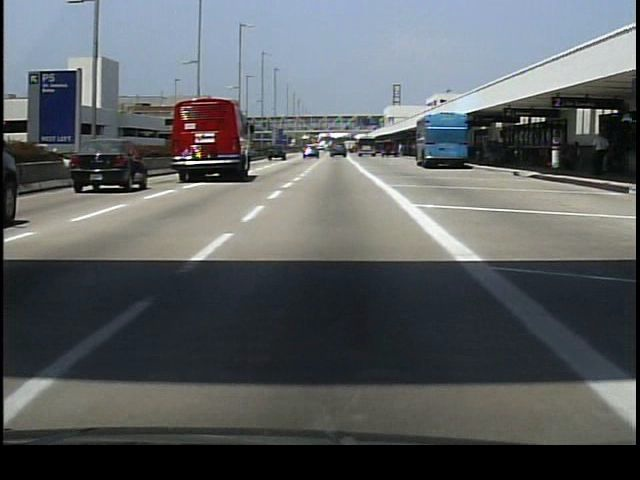person: (589, 130, 608, 177)
